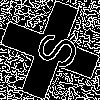S: (25, 25, 81, 73)
